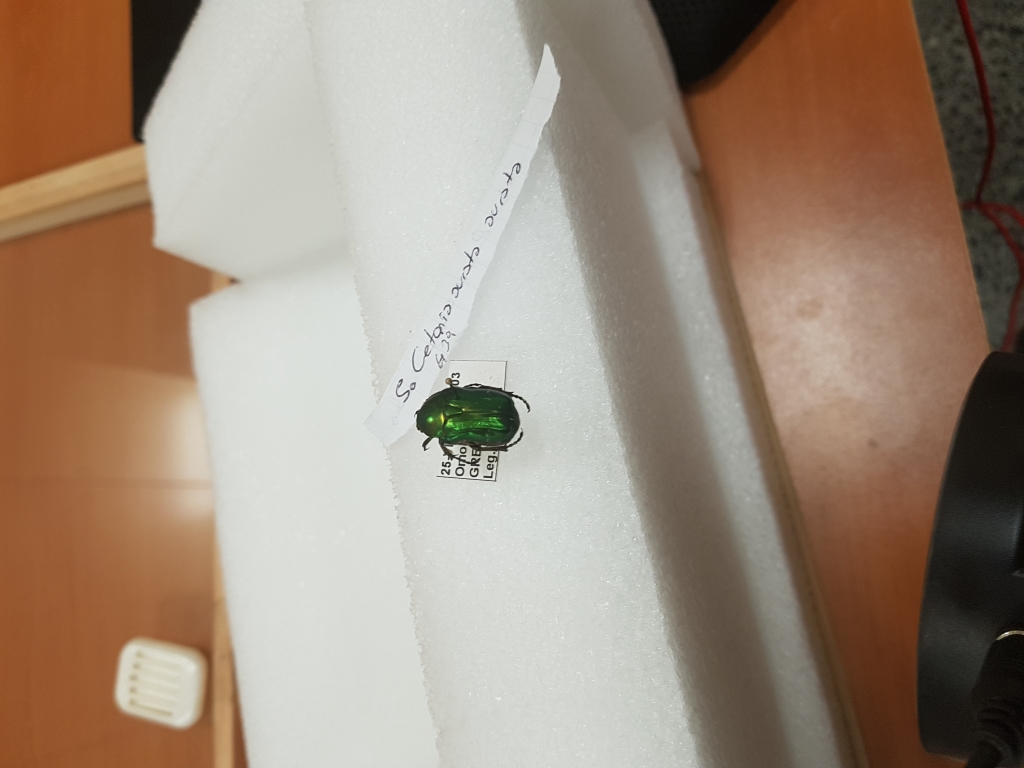Cetonia_aurata: (403, 377, 536, 463)
